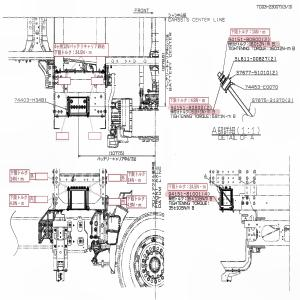PartNumber: (245, 84, 278, 90), (236, 69, 269, 75), (228, 36, 261, 42), (251, 97, 285, 102), (170, 105, 204, 110), (14, 97, 47, 102), (235, 56, 268, 61), (169, 191, 201, 196)
